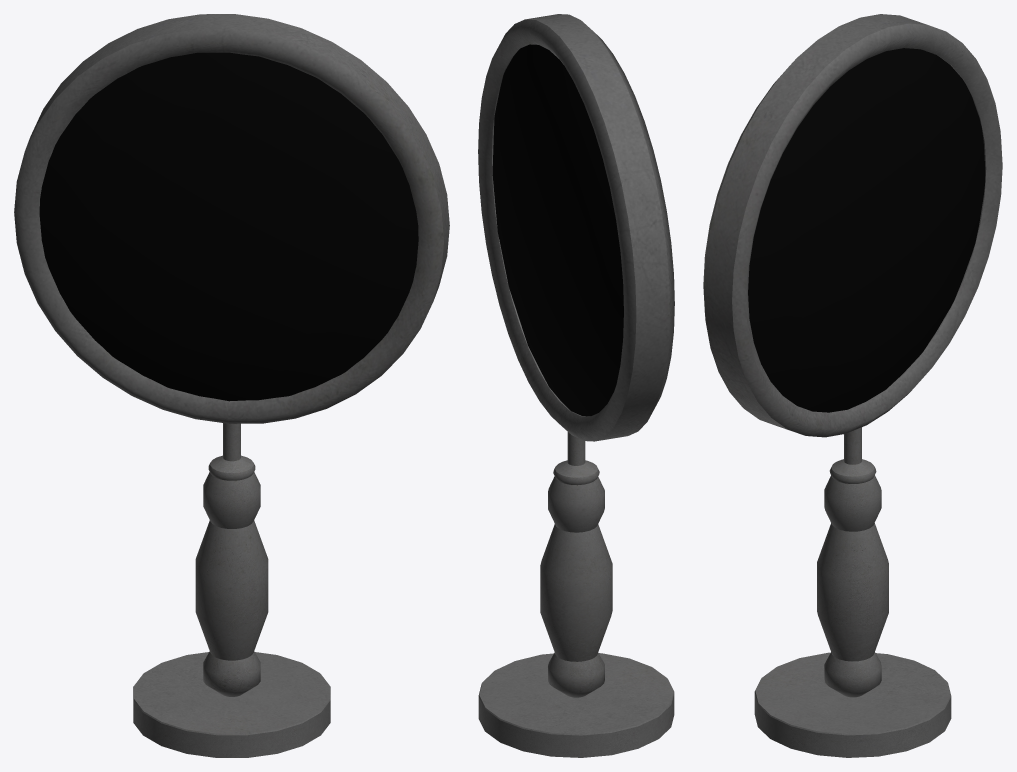
The model's file is Lance_Opaque.gltf.
3 views of the same model, side by side, from view 1: azimuth 30°, elevation 25°; view 2: azimuth 150°, elevation 25°; view 3: azimuth 270°, elevation 25° (orthographic).
Parts seen in each view (by area): view 1: Glass1, Magnifire_Glass; view 2: Magnifire_Glass, Glass1; view 3: Glass1, Magnifire_Glass.
Part boxes in pixels (bbox=[...]): Glass1: bbox=[39, 52, 418, 401]; Magnifire_Glass: bbox=[14, 14, 449, 757]; Magnifire_Glass: bbox=[478, 14, 674, 757]; Glass1: bbox=[492, 44, 623, 416]; Glass1: bbox=[748, 48, 985, 412]; Magnifire_Glass: bbox=[703, 14, 1002, 757].
Bounding box in the file's own units: 0.7264 × 1.54 × 0.6098.
2 materials, 1 textured.
